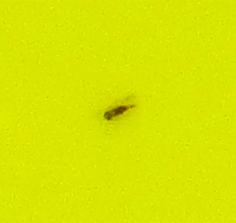Hemiptera: (100, 100, 136, 123)
